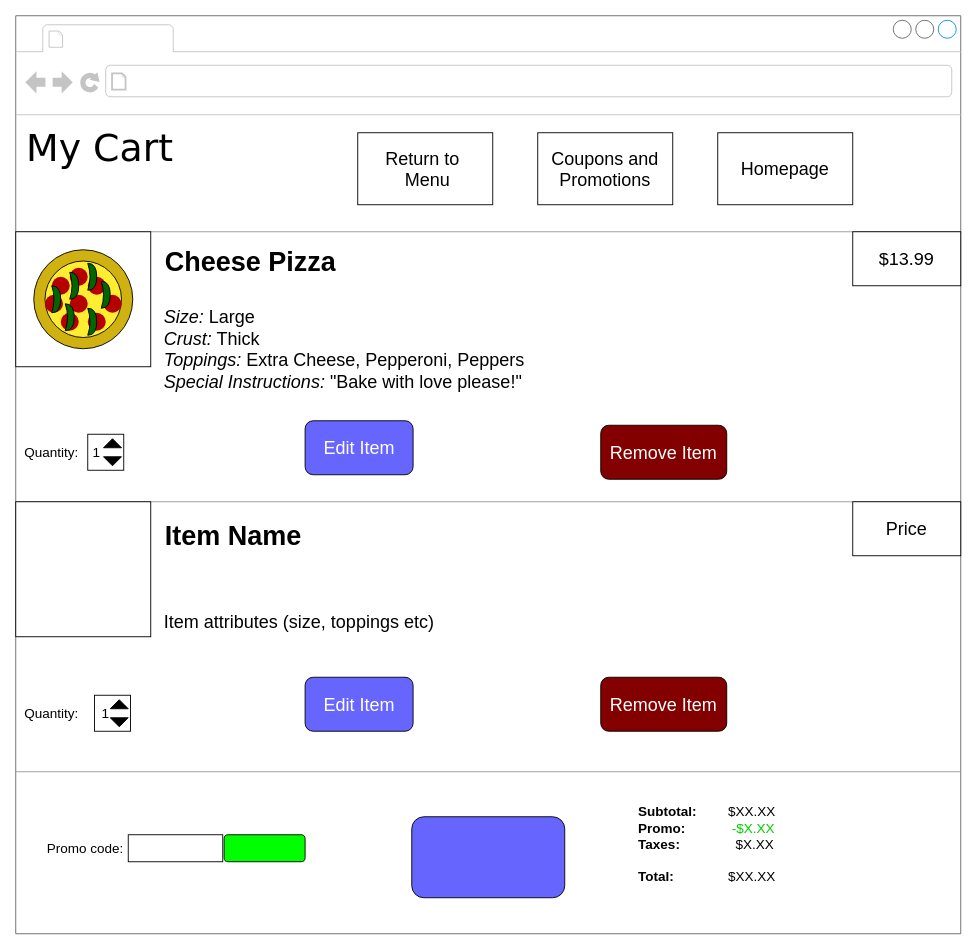
Some shapes in this 977 by 950 pixel diagram are drawn without their labels. The box of each missing label's shape, as (x1, y1, x2, y2) in pixels:
APPLY: (223, 834, 305, 862)
Continue to Checkout: (411, 816, 565, 898)
https://www.pizzawebsite.com/shoppingCart: (132, 69, 358, 93)
Page 1: (69, 26, 169, 50)
Photo: (15, 501, 151, 637)
